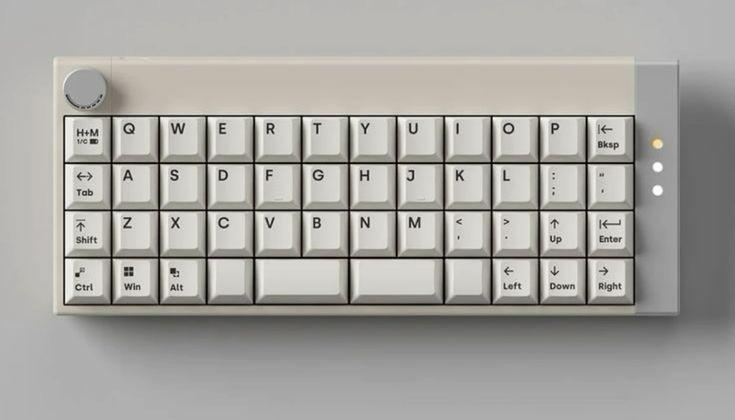keyboard: (51, 54, 680, 317)
